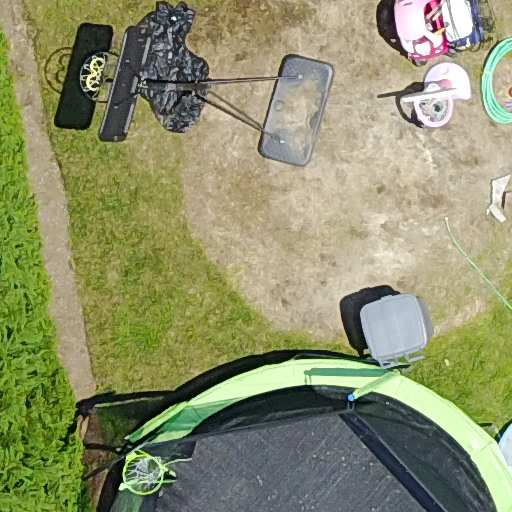basketball: (57, 11, 369, 188)
tarp: (117, 4, 235, 147)
trash bin: (342, 280, 439, 371)
